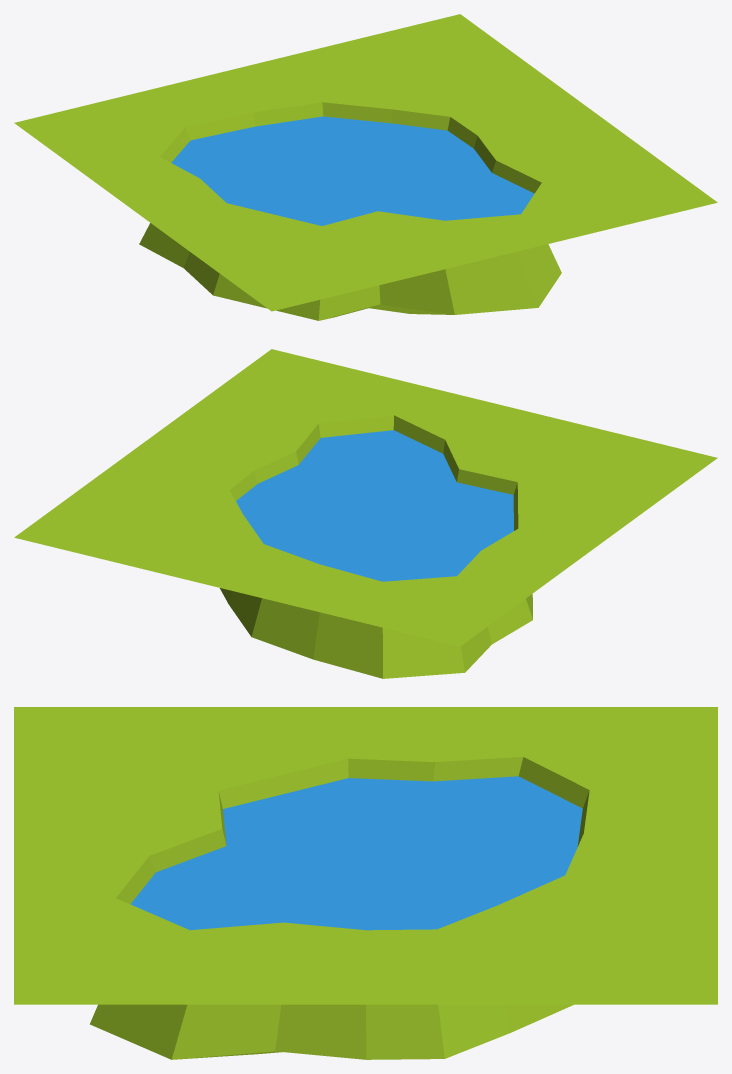
File: terrain_pond.dae
3 views of the same model, one above another, from view 1: azimuth 30°, elevation 25°; view 2: azimuth 150°, elevation 25°; view 3: azimuth 270°, elevation 25° (orthographic). The views are drawn at different scales.
Parts seen in each view (by area): view 1: Plane, Plane_001; view 2: Plane, Plane_001; view 3: Plane, Plane_001.
Boxes of the visible parts, bbox=[...] form: Plane: bbox=[14, 14, 717, 320]; Plane_001: bbox=[171, 116, 534, 225]; Plane: bbox=[14, 349, 717, 678]; Plane_001: bbox=[236, 430, 513, 581]; Plane: bbox=[14, 707, 717, 1059]; Plane_001: bbox=[130, 776, 582, 930].
Size of the model in its own units: 20 by 20 by 4.9.
